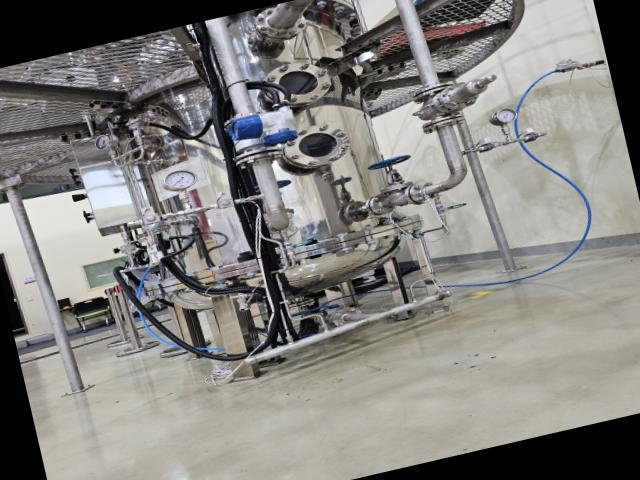Flange: (254, 52, 341, 114), (273, 115, 357, 174)
Flush Ring: (249, 0, 310, 45), (250, 204, 312, 246), (228, 140, 293, 170), (406, 78, 469, 102), (416, 109, 472, 134), (321, 300, 366, 330), (402, 178, 438, 208), (359, 190, 392, 220)
GasRegulator: (86, 103, 186, 180)
Nuts: (138, 208, 170, 228), (470, 138, 504, 156), (213, 194, 241, 212), (516, 128, 544, 146)
Piston Valve: (364, 145, 420, 190), (244, 174, 296, 198)
Pressure Gage: (158, 162, 207, 214), (484, 103, 526, 145)
